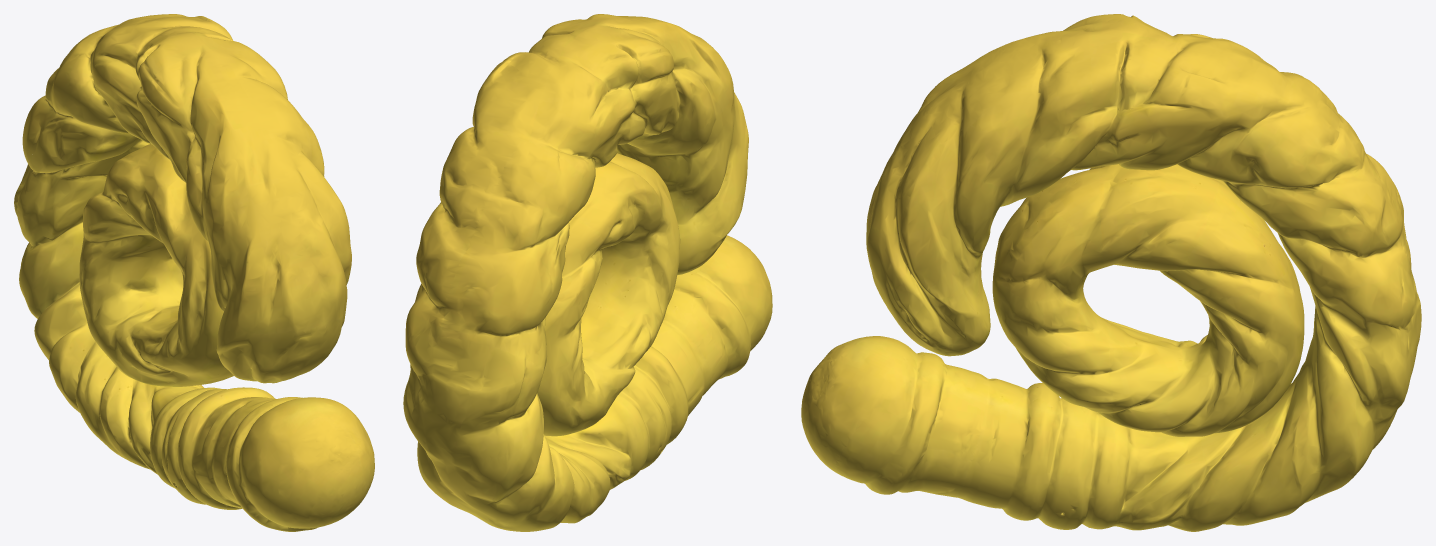
File: jelly_balance_lemon.glb
The picture shows the model from 3 angles, left to right: view 1: azimuth 30°, elevation 25°; view 2: azimuth 150°, elevation 25°; view 3: azimuth 270°, elevation 25°; orthographic projection. The views are drawn at different scales.
Parts seen in each view (by area): view 1: tripo_node_4601daa0-1801-4772-8b9e-93f5ed407560; view 2: tripo_node_4601daa0-1801-4772-8b9e-93f5ed407560; view 3: tripo_node_4601daa0-1801-4772-8b9e-93f5ed407560.
Boxes of the visible parts, x1,y1,x2,y2 form: tripo_node_4601daa0-1801-4772-8b9e-93f5ed407560: [14, 14, 374, 531]; tripo_node_4601daa0-1801-4772-8b9e-93f5ed407560: [403, 14, 772, 531]; tripo_node_4601daa0-1801-4772-8b9e-93f5ed407560: [801, 14, 1421, 531].
Bounding box in the file's own units: 0.2564 × 0.8587 × 0.9792.
Materials: 1 (1 with a texture image).
